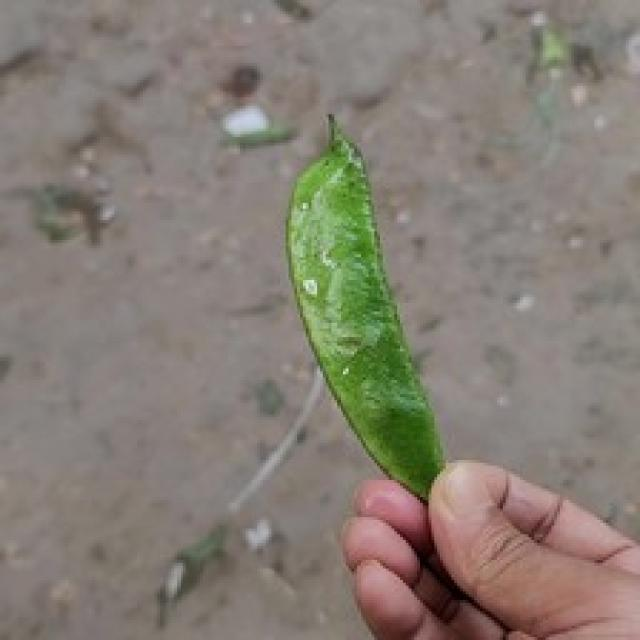Bean: (283, 111, 446, 503)
